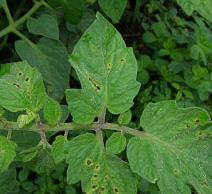Tomato leaf bacterial spot: (68, 14, 149, 128), (129, 95, 212, 194), (61, 131, 137, 194), (0, 60, 51, 120)
